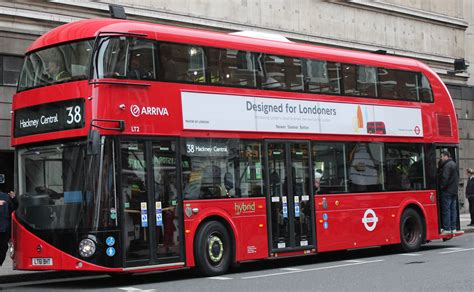bus: (13, 25, 461, 273)
